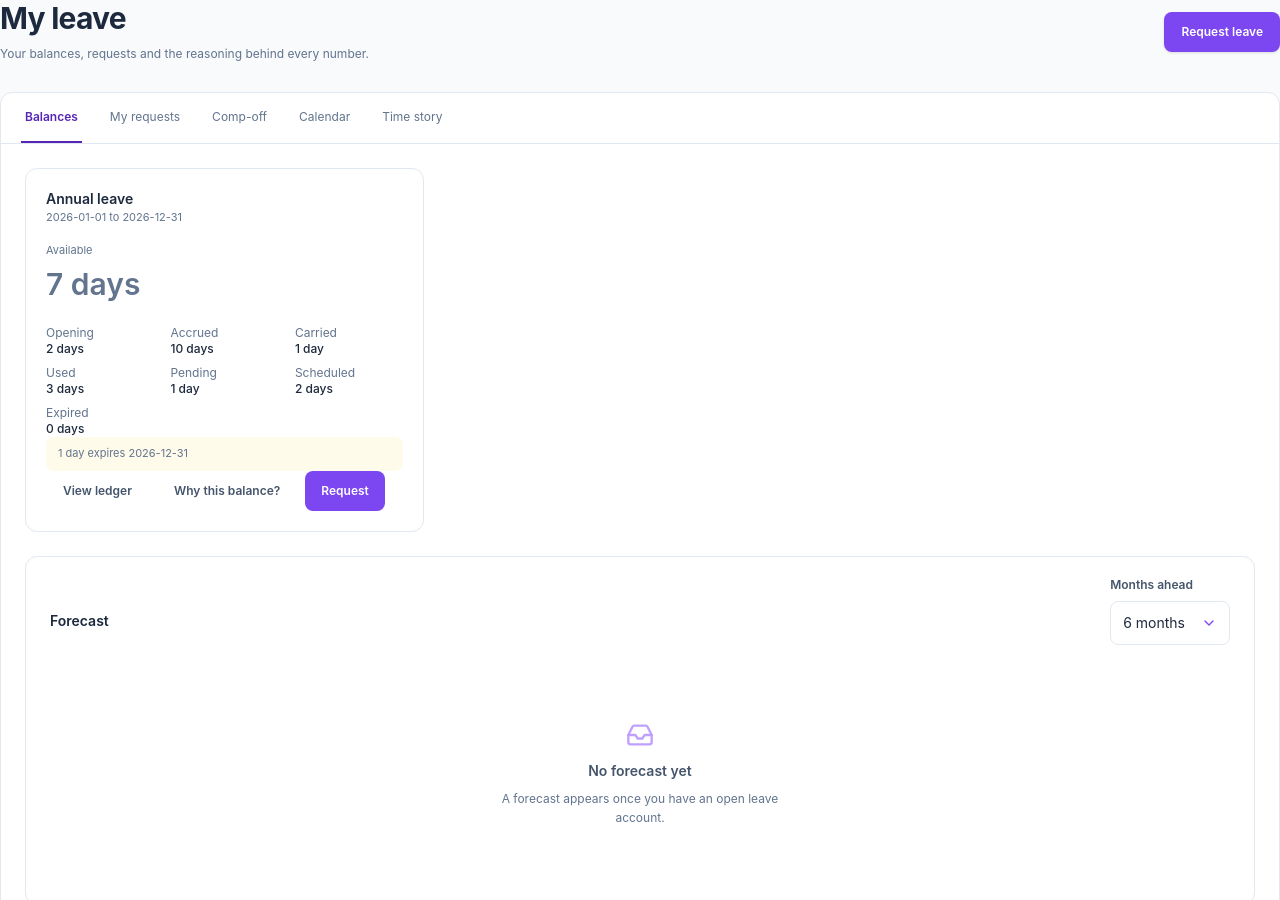
it: Balances, ledger drawer and explainer › explains why the balance is what it is
The width and height of the screenshot is (1280, 900).
Click the button with aria-label "Why this Annual leave balance": [227, 491] box [157,471,297,511]
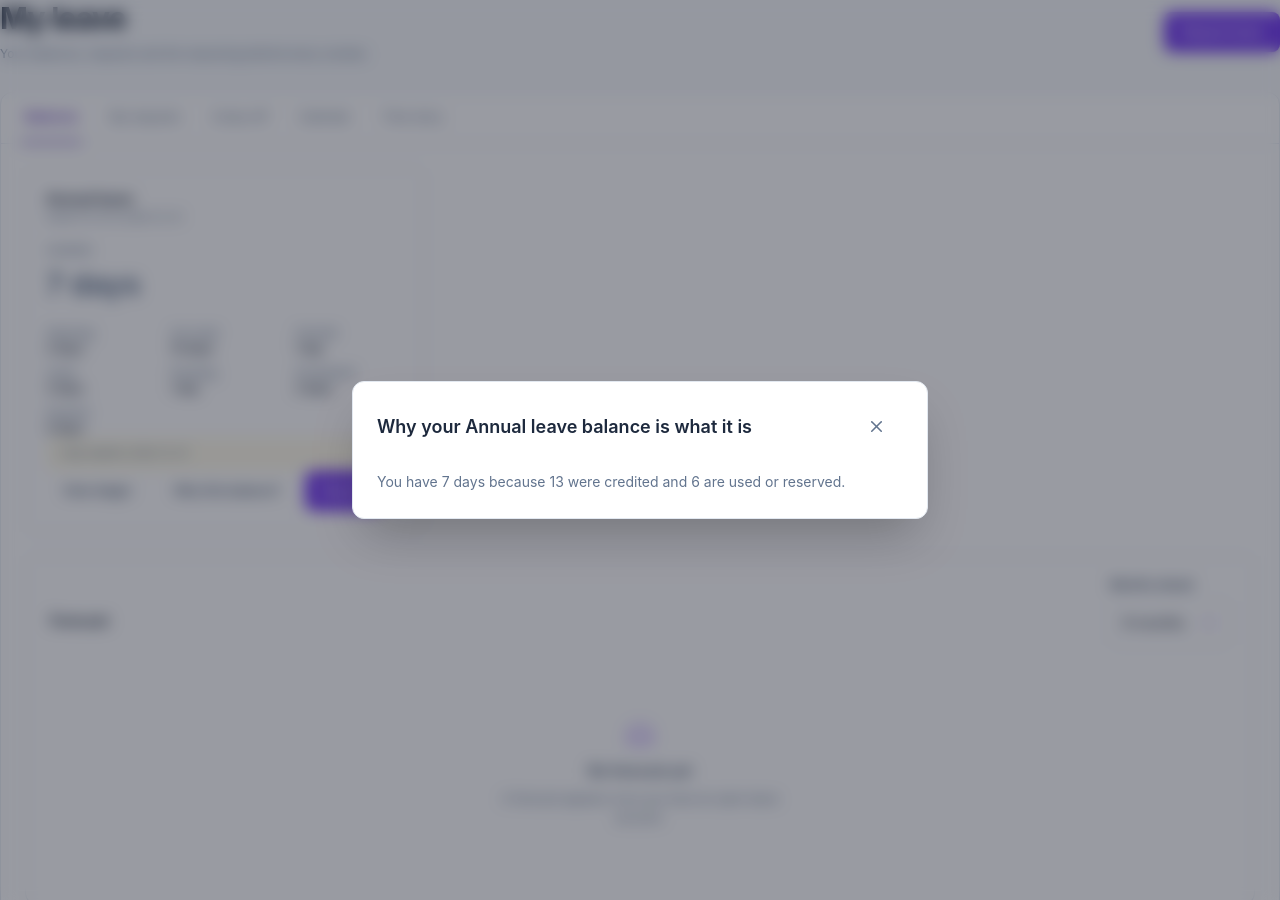
Expected: the text "13 were credited and 6 are used" is shown, [377,473,845,490]
